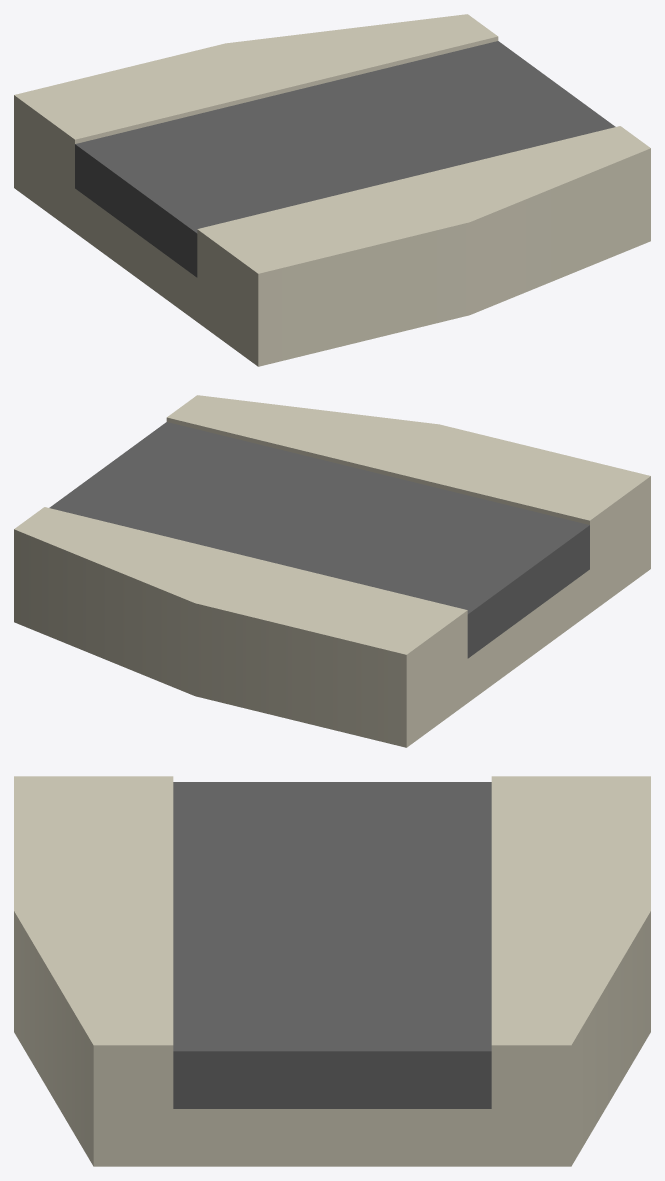
File: tile076.fbx
3 renders of one model, top to bottom at view 1: azimuth 30°, elevation 25°; view 2: azimuth 150°, elevation 25°; view 3: azimuth 270°, elevation 25°, orthographic. The views are drawn at different scales.
Parts seen in each view (by area): view 1: tile076; view 2: tile076; view 3: tile076.
Part boxes in pixels (box(x1,y1,x2,y2)): tile076: box(14, 14, 650, 366); tile076: box(14, 395, 650, 747); tile076: box(14, 776, 650, 1166).
Bounding box in the file's own units: 10 × 2.1 × 10.
